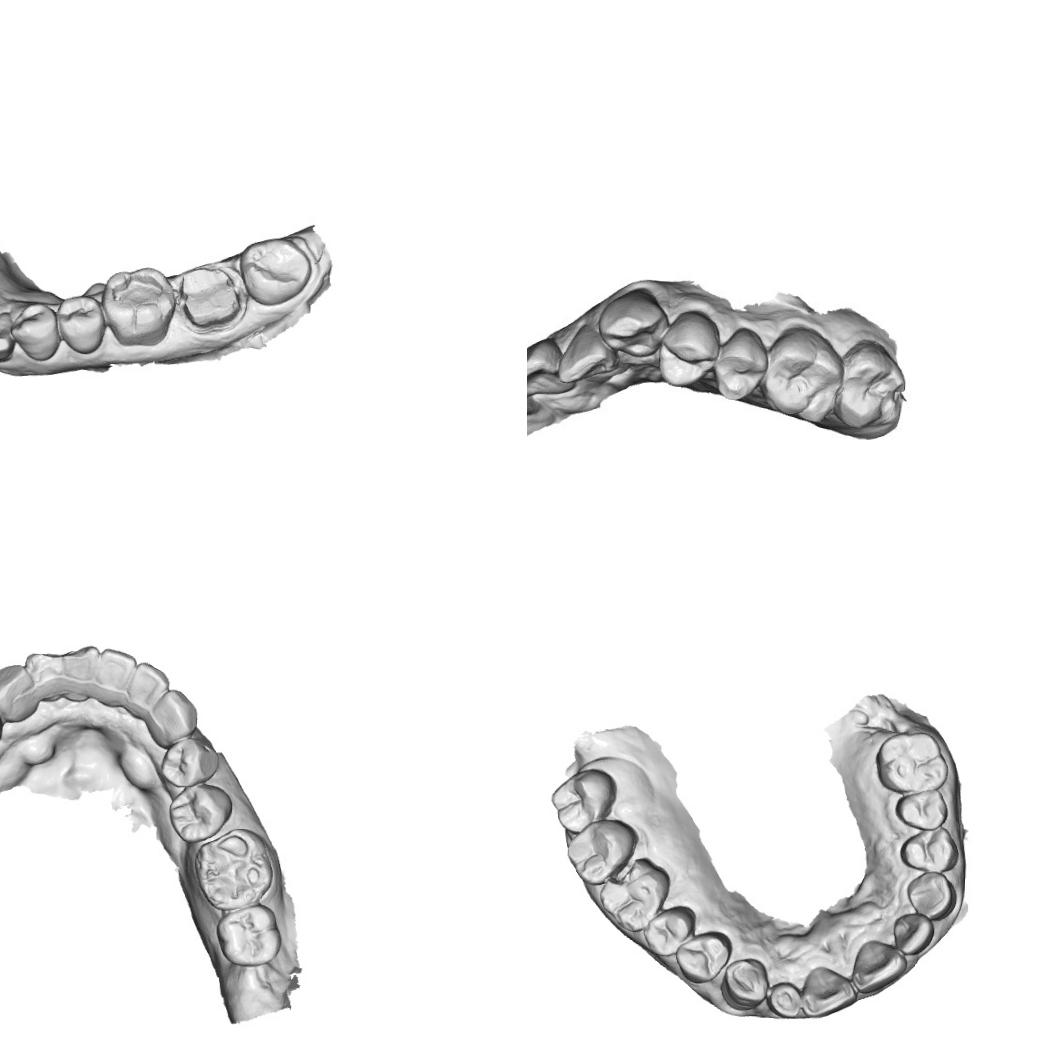canine: (598, 289, 663, 354), (142, 687, 201, 751), (900, 867, 958, 925), (718, 955, 772, 1013), (0, 661, 42, 725), (0, 307, 18, 362)
crown: (175, 258, 246, 333)
incisor: (798, 956, 858, 1018), (854, 932, 914, 994), (91, 644, 140, 709), (57, 640, 101, 704), (560, 326, 610, 381), (125, 659, 173, 716), (25, 649, 66, 704), (890, 911, 936, 960), (527, 348, 563, 401), (766, 979, 802, 1020), (527, 402, 554, 455)
molar: (756, 328, 842, 426), (191, 825, 278, 914), (833, 338, 907, 435), (98, 263, 177, 350), (238, 232, 314, 312), (597, 854, 672, 935), (564, 816, 640, 888), (874, 729, 950, 800), (548, 766, 619, 836), (213, 900, 285, 969)
premolar: (166, 780, 236, 846), (652, 314, 714, 388), (708, 330, 766, 408), (155, 734, 222, 791), (52, 291, 109, 357), (8, 299, 64, 364), (674, 928, 733, 986), (641, 902, 696, 959), (898, 824, 960, 874), (893, 786, 950, 832)
